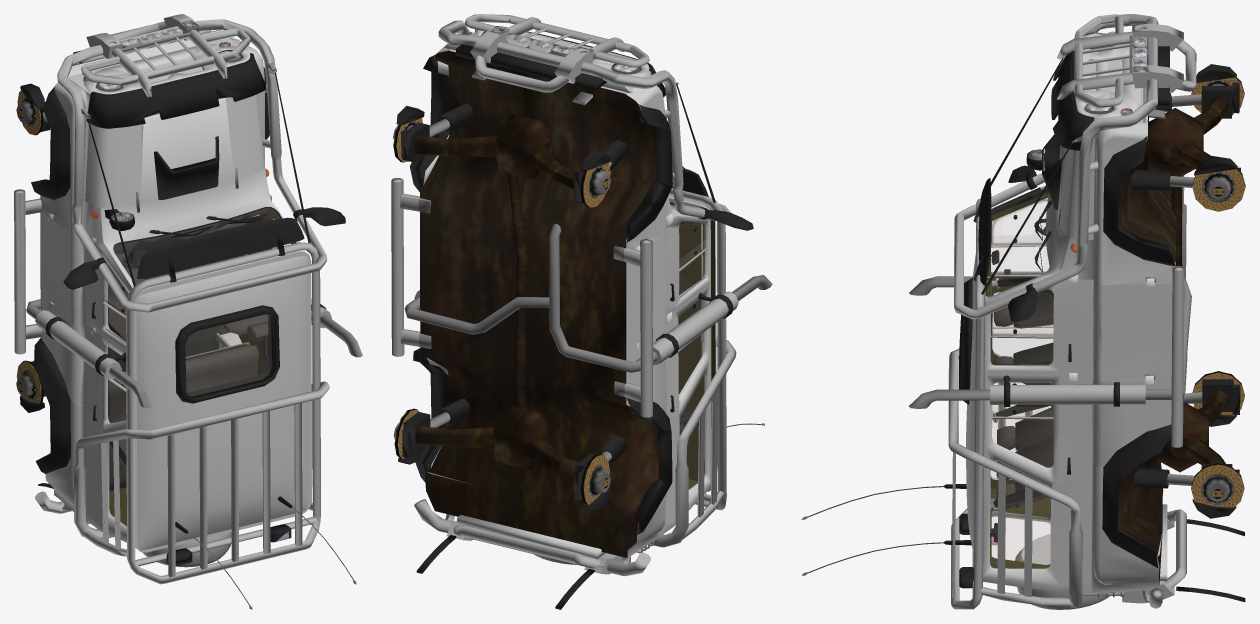
The model's file is Jeep.obj.
3 views of the same model, side by side, from view 1: azimuth 30°, elevation 25°; view 2: azimuth 150°, elevation 25°; view 3: azimuth 270°, elevation 25° (orthographic). The views are drawn at different scales.
Visible parts, largest first — view 1: TopGlass_Jeep:null_95_Сіть.091_TopGlass.002; view 2: TopGlass_Jeep:null_95_Сіть.091_TopGlass.002; view 3: TopGlass_Jeep:null_95_Сіть.091_TopGlass.002.
Part boxes in pixels (<box>): TopGlass_Jeep:null_95_Сіть.091_TopGlass.002: <box>14,14,362,609</box>; TopGlass_Jeep:null_95_Сіть.091_TopGlass.002: <box>391,14,772,609</box>; TopGlass_Jeep:null_95_Сіть.091_TopGlass.002: <box>801,14,1245,609</box>.
Size of the model in its own units: 2.46 by 4.19 by 3.1.
